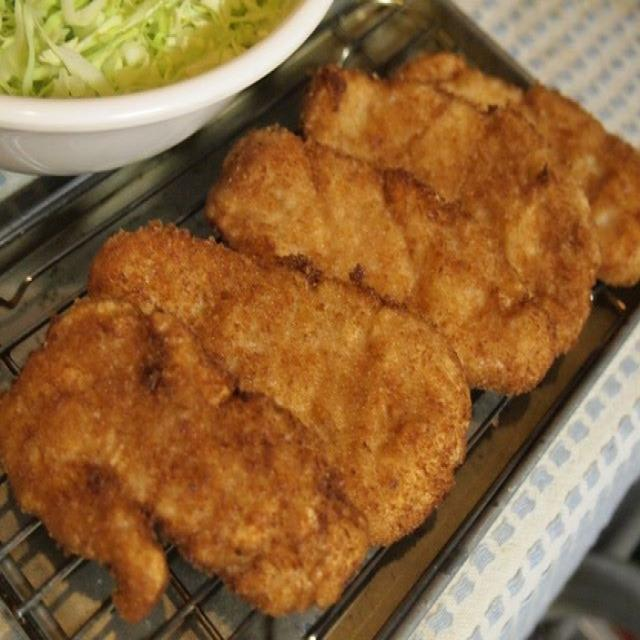牛肉菜式: (10, 27, 633, 620)
